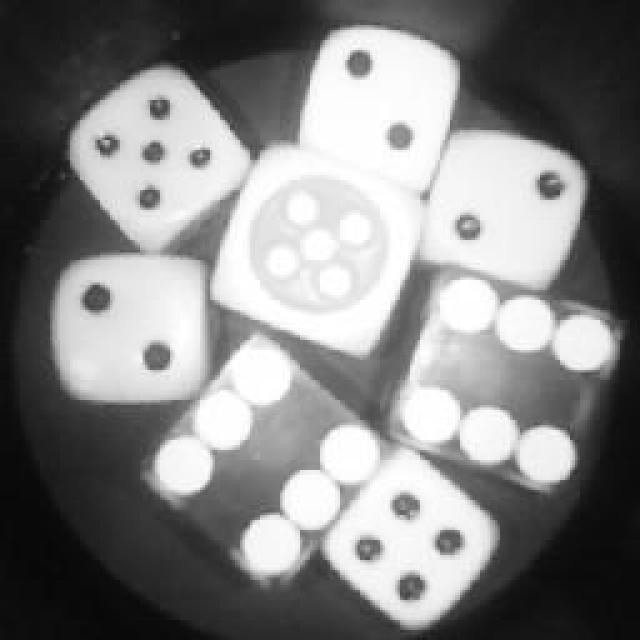dice_2: (290, 17, 465, 205), (415, 118, 590, 290), (45, 245, 215, 410)
dice_4: (325, 440, 503, 630)
dice_5: (205, 135, 430, 360), (65, 52, 260, 262)
dice_6: (132, 327, 380, 595), (380, 253, 630, 495)
